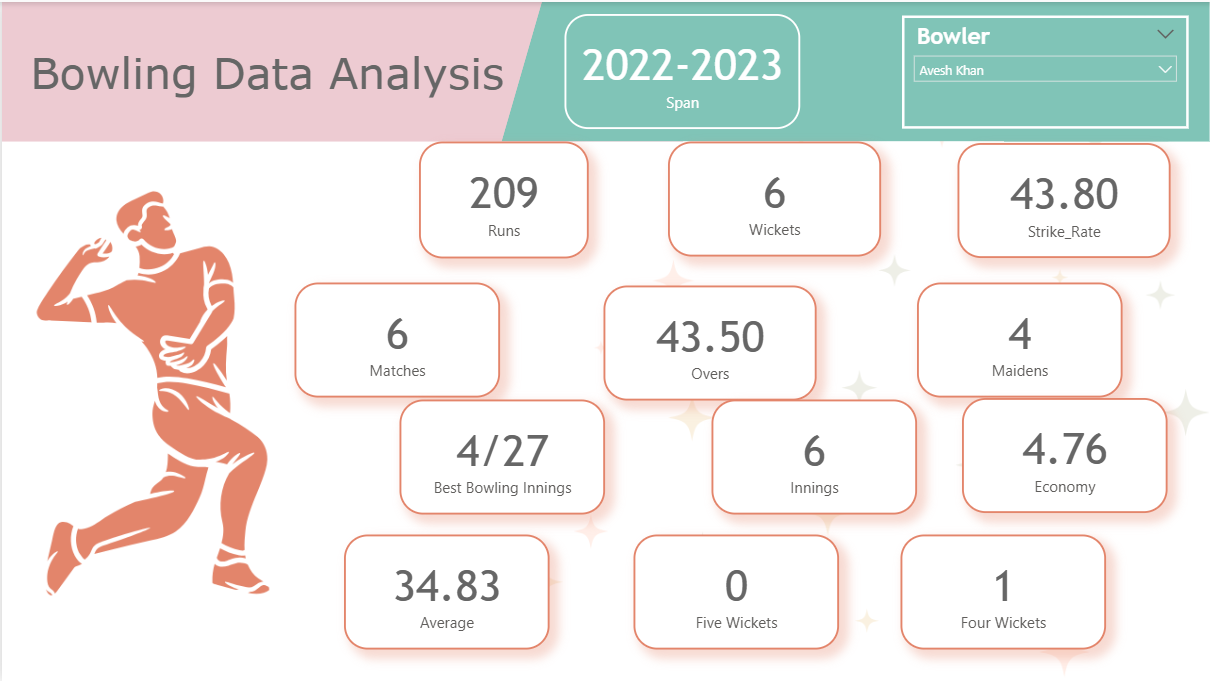

Layout of this report page (visuals, bound fields, positions):
{"tool":"powerbi","page":{"name":"Bowling","canvas":[1280,720],"ordinal":1},"visuals":[{"type":"shape","box":[0,0,722,148],"z":0},{"type":"shape","box":[530,0,750,148],"z":1000},{"type":"shape","box":[1062,0,218,148],"z":2000},{"type":"slicer","fields":{"Values":["Bowling.Player"]},"box":[954,14,304,120],"z":3000},{"type":"card","fields":{"Values":["Sum(Bowling.Wkts)"]},"box":[706,148,226,122],"z":4000},{"type":"card","fields":{"Values":["Sum(Bowling.Overs)"]},"box":[638,300,226,122],"z":5000},{"type":"card","fields":{"Values":["Sum(Bowling.Runs)"]},"box":[442,148,180,124],"z":6000},{"type":"card","fields":{"Values":["Min(Bowling.Span)"]},"box":[596,12,250,122],"z":7000},{"type":"card","fields":{"Values":["Sum(Bowling.SR)"]},"box":[1014,150,226,122],"z":8000},{"type":"card","fields":{"Values":["Sum(Bowling.Mdns)"]},"box":[970,298,218,122],"z":9000},{"type":"card","fields":{"Values":["Sum(Bowling.Econ)"]},"box":[1018,420,218,122],"z":10000},{"type":"card","fields":{"Values":["Sum(Bowling.Inns)"]},"box":[752,422,218,122],"z":11000},{"type":"card","fields":{"Values":["Sum(Bowling.Mat)"]},"box":[310,298,218,122],"z":12000},{"type":"card","fields":{"Values":["Sum(Bowling.Ave)"]},"box":[362,564,218,122],"z":13000},{"type":"card","fields":{"Values":["Min(Bowling.BBI)"]},"box":[422,422,218,122],"z":14000},{"type":"card","fields":{"Values":["Sum(Bowling.5)"]},"box":[670,564,218,122],"z":15000},{"type":"card","fields":{"Values":["Sum(Bowling.4)"]},"box":[952,564,218,122],"z":16000}]}

Visuals, with their boxes in screenshot pixels (x1, y1, x2, y2), scaled from the page's 1280x720 canvas onto the 1210x681 screenshot:
shape: region(0, 0, 683, 140)
shape: region(501, 0, 1209, 140)
shape: region(1004, 0, 1209, 140)
slicer - Bowling.Player: region(902, 13, 1189, 127)
card - Sum(Bowling.Wkts): region(667, 140, 881, 255)
card - Sum(Bowling.Overs): region(603, 284, 817, 399)
card - Sum(Bowling.Runs): region(418, 140, 588, 257)
card - Min(Bowling.Span): region(563, 11, 800, 127)
card - Sum(Bowling.SR): region(959, 142, 1172, 257)
card - Sum(Bowling.Mdns): region(917, 282, 1123, 397)
card - Sum(Bowling.Econ): region(962, 397, 1168, 513)
card - Sum(Bowling.Inns): region(711, 399, 917, 515)
card - Sum(Bowling.Mat): region(293, 282, 499, 397)
card - Sum(Bowling.Ave): region(342, 533, 548, 649)
card - Min(Bowling.BBI): region(399, 399, 605, 515)
card - Sum(Bowling.5): region(633, 533, 839, 649)
card - Sum(Bowling.4): region(900, 533, 1106, 649)
